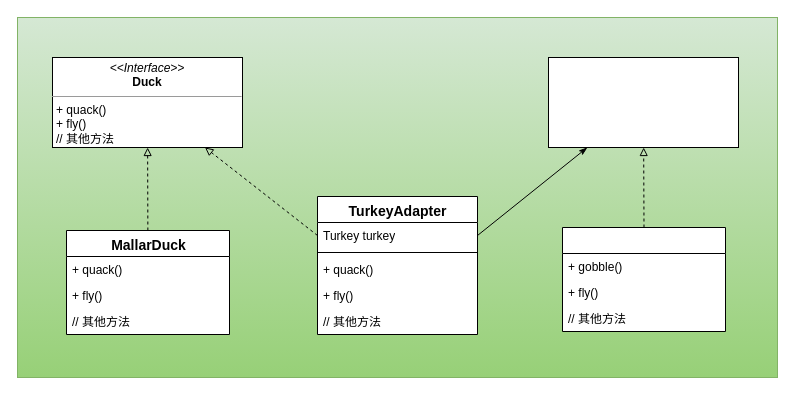
Image size: 795x395. Some labels were removed from this diagram. Here are the shapes that lost their labels. From the top down, the box of each, then its label:
(548, 56, 738, 148): <<Interface>> Turkey + gobble() + fly() // 其他方法
(562, 226, 726, 332): WildTurkey
